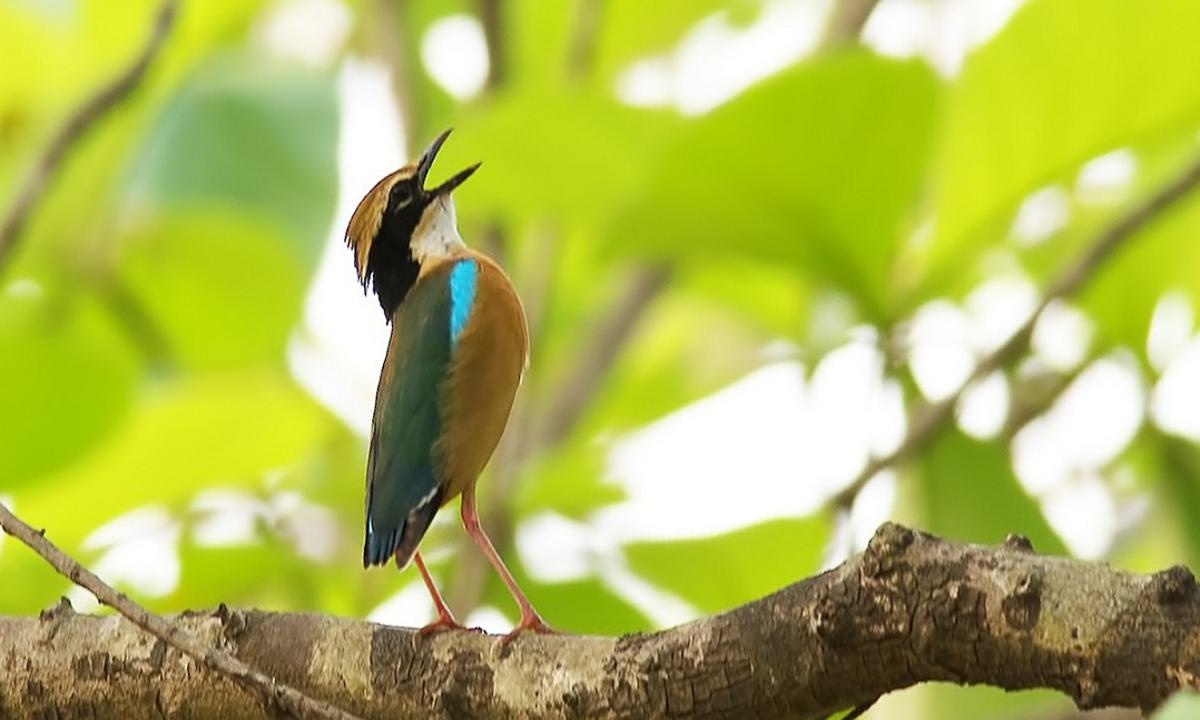pitta: (326, 111, 573, 657)
